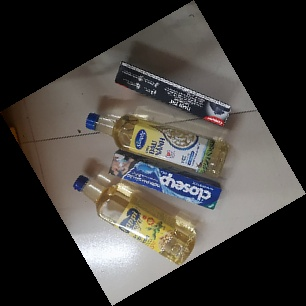CloseUp Tuyet: (106, 149, 223, 212)
Colgate Than: (113, 59, 231, 131)
Happy Soya: (71, 173, 199, 267)
Simply: (85, 111, 231, 179)
